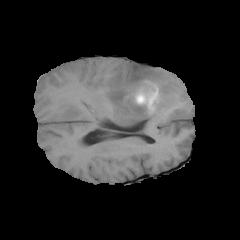glioma: (57, 67, 181, 125)
